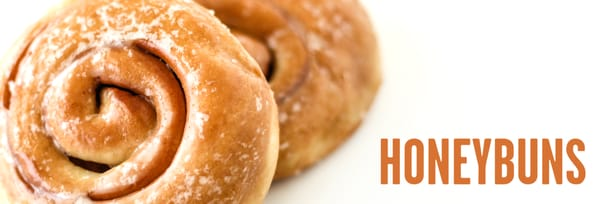salad: (1, 0, 279, 201), (196, 2, 384, 183), (2, 16, 187, 199)
